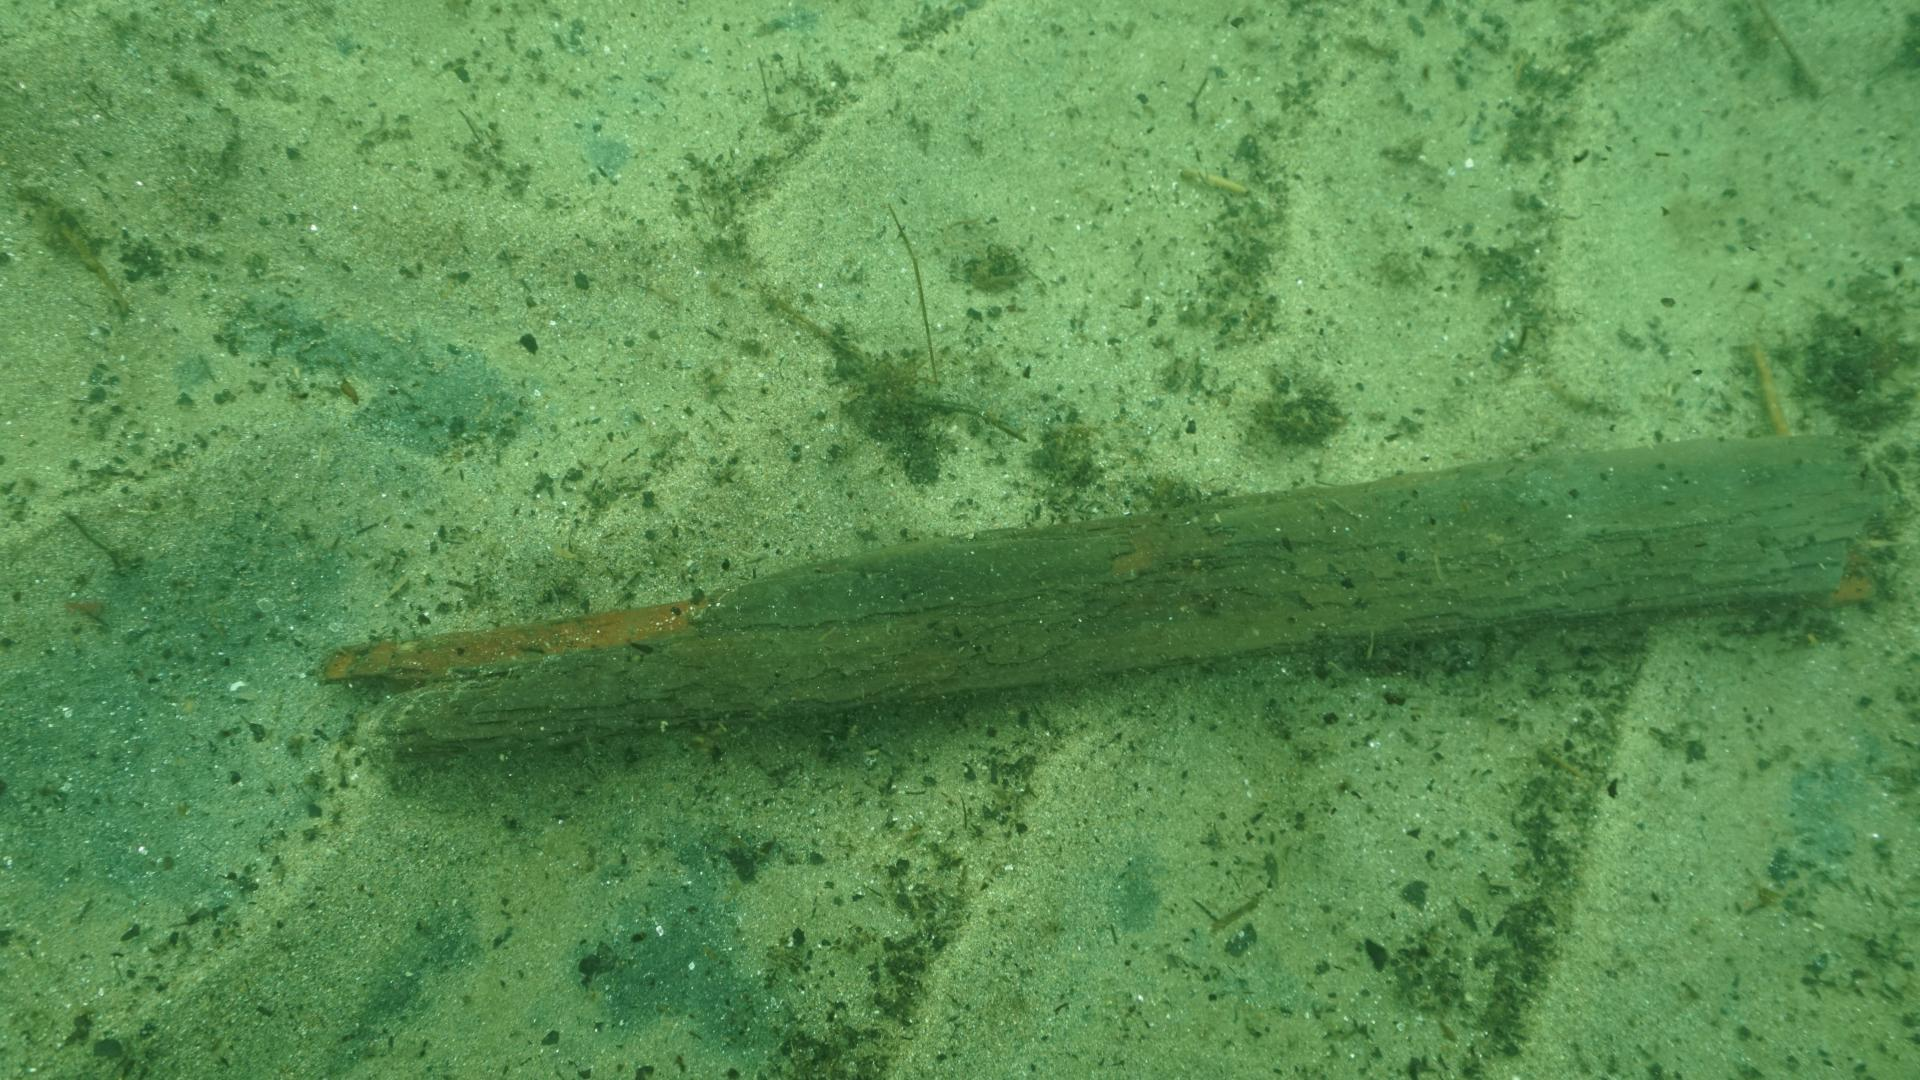wood: (309, 423, 1902, 777)
